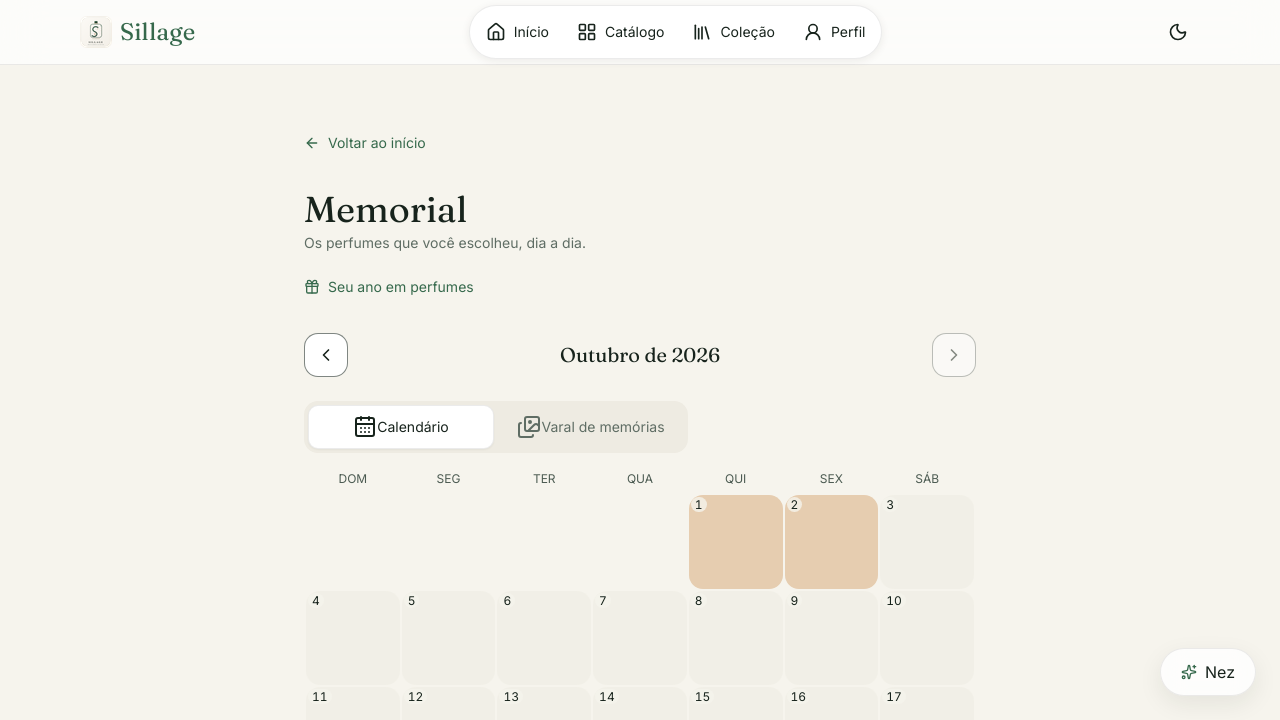
MemorialPage (Fase 19) › alterna entre Calendário e Varal pela URL, e trocar de mês mantém a visão
Press the mouse on the tab "Varal de memórias" at coordinates (591, 427), box [498,405,684,449]
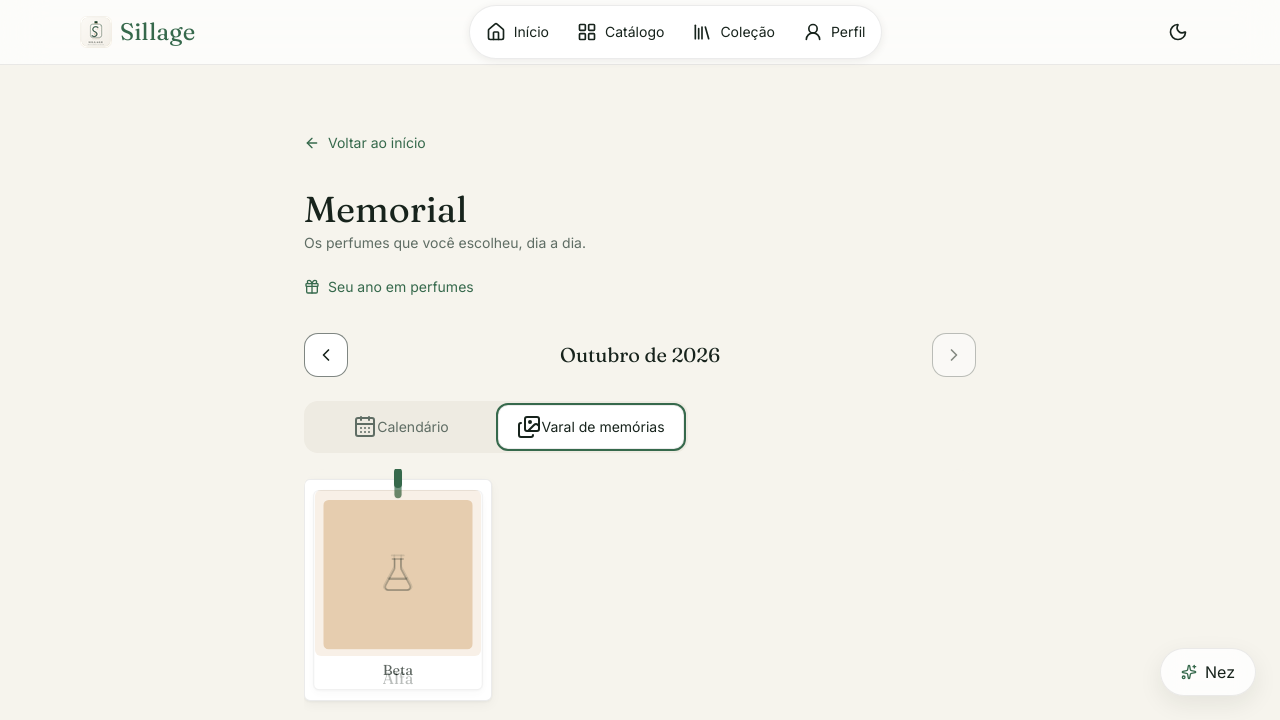
Click the button named "Mês anterior" at coordinates (326, 355), box [304,333,348,377]
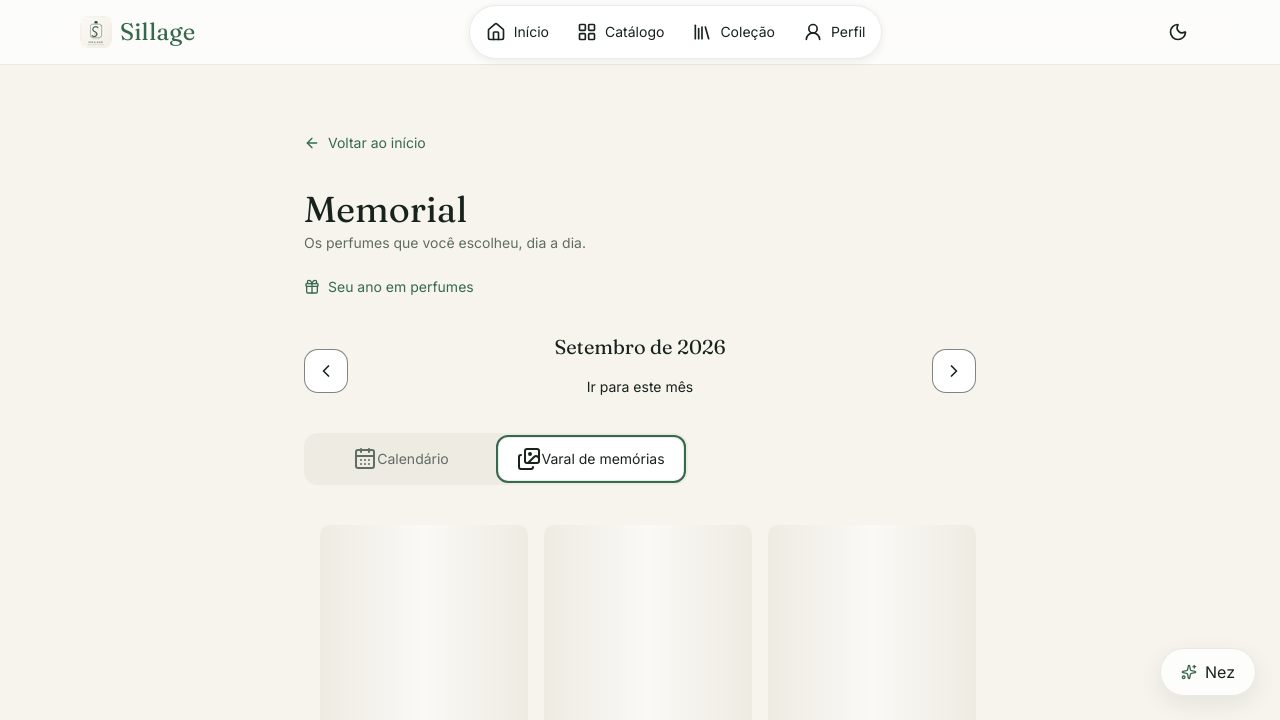
Press the mouse on the tab "Calendário" at coordinates (401, 459), box [308,437,494,481]
(page scrolled)
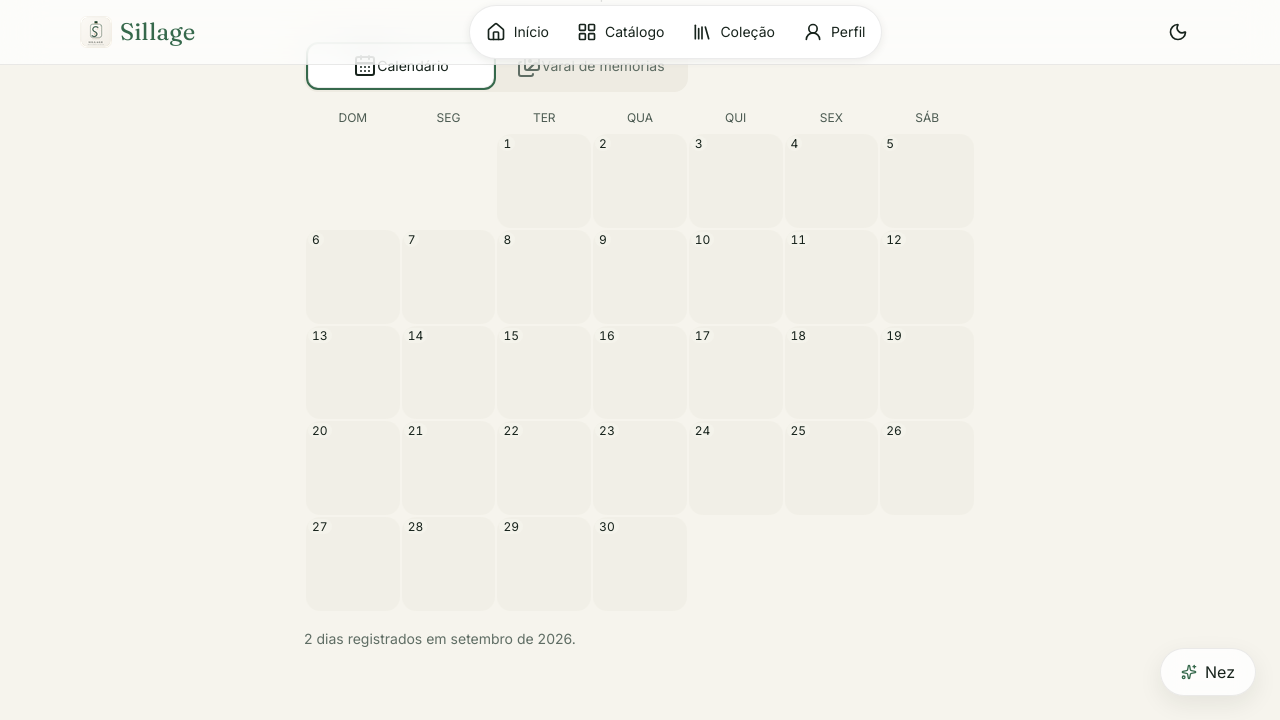
Result: the table is shown at [304,108,976,613]
